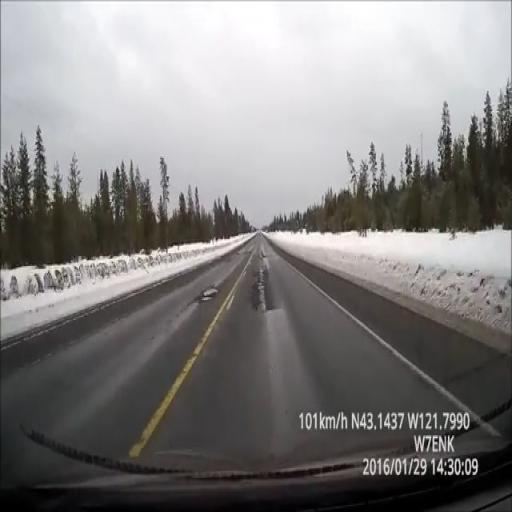Potholes: (250, 255, 274, 321), (194, 283, 219, 307)
